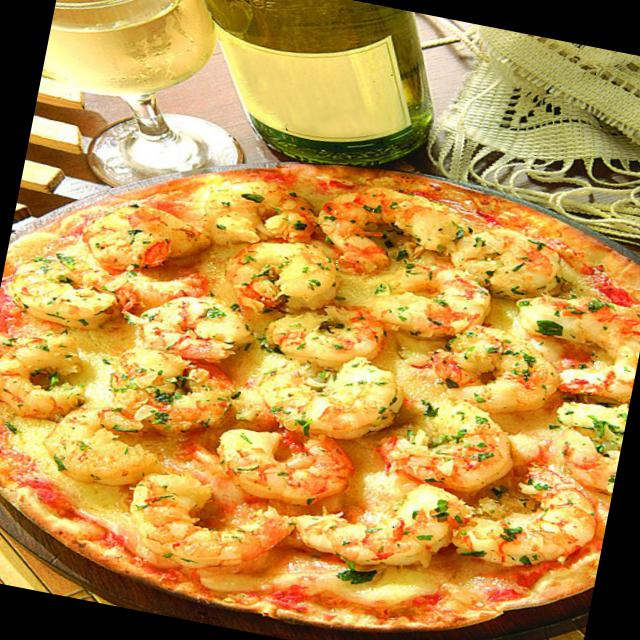camarao: (470, 444, 610, 584), (302, 466, 468, 582), (127, 467, 298, 577), (382, 385, 528, 501), (250, 350, 408, 450), (206, 417, 363, 517), (208, 223, 351, 325), (324, 176, 460, 282), (441, 318, 573, 422), (94, 341, 231, 434), (2, 240, 136, 334), (122, 286, 262, 372), (365, 258, 496, 346), (41, 402, 160, 490), (196, 168, 326, 248), (456, 220, 564, 298)
pizza: (0, 104, 639, 639), (504, 283, 639, 414)
